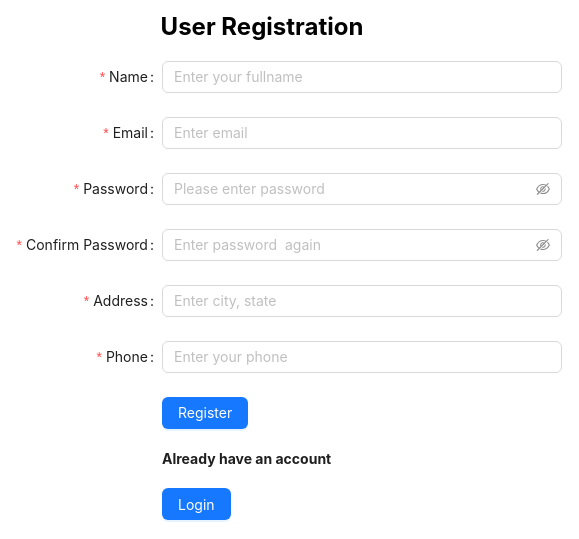
Scenario: Testing Register Page › Successful user registration with valid data
Type "John Doe" into the field labelled "Name".
click(362, 77); type("John Doe")  # box [162,61,562,93]
Type "john.doe@example.com" into the field labelled "Email".
click(362, 133); type("john.doe@example.com")  # box [162,117,562,149]
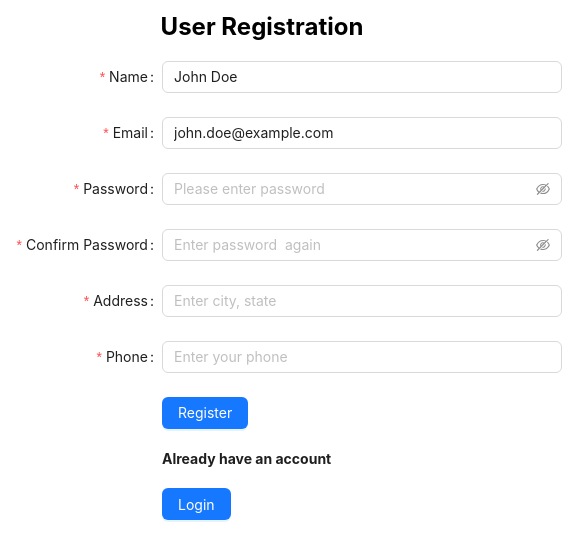
Type "password" into the password field labelled "Password".
click(353, 189); type("password")  # box [174,178,532,200]
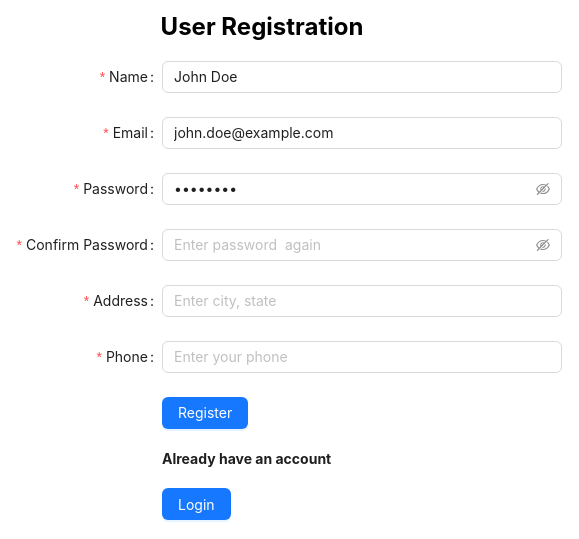
Type "password" into the password field labelled "Confirm Password".
click(353, 245); type("password")  # box [174,234,532,256]
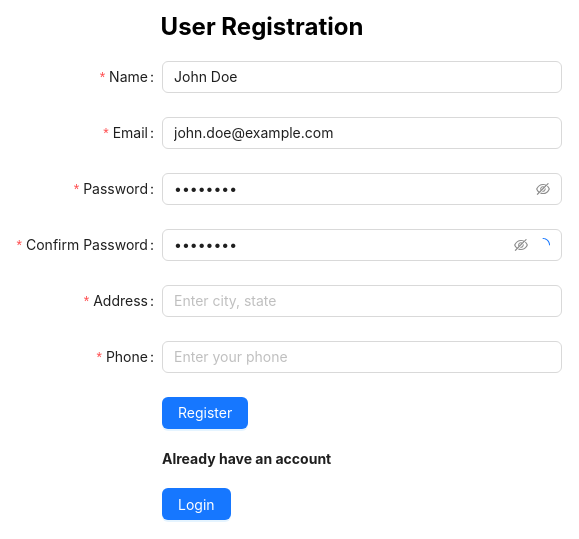
Type "123 Main St" into the field labelled "Address".
click(362, 301); type("123 Main St")  # box [162,285,562,317]
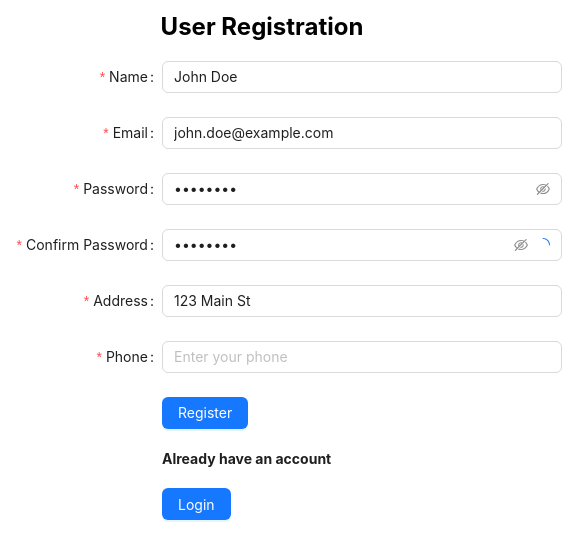
Type "1234567890" into the field labelled "Phone".
click(362, 357); type("1234567890")  # box [162,341,562,373]
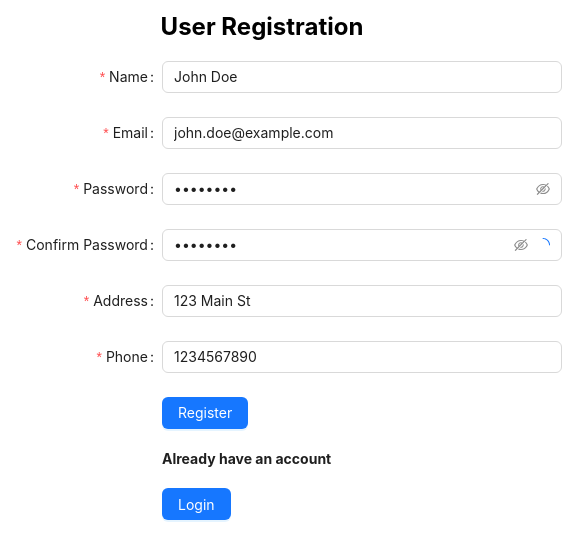
Click the button "Register".
click(205, 413)  # box [162,397,248,429]
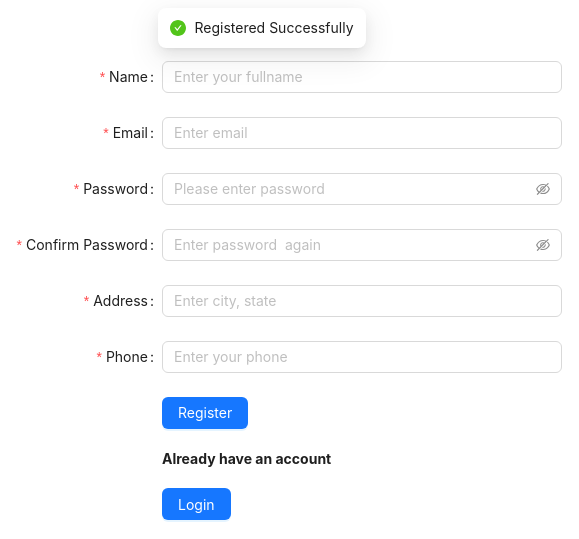
Result: the text "Registered Successfully" is shown at [194,17,354,39]
